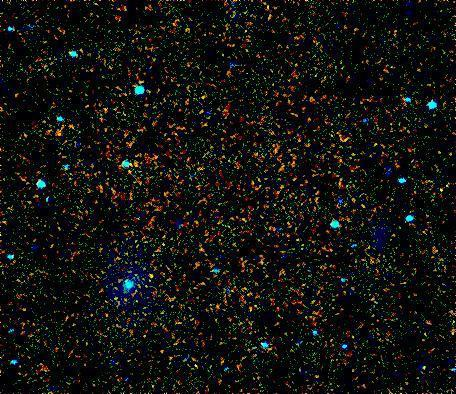star: (138, 260, 168, 290)
